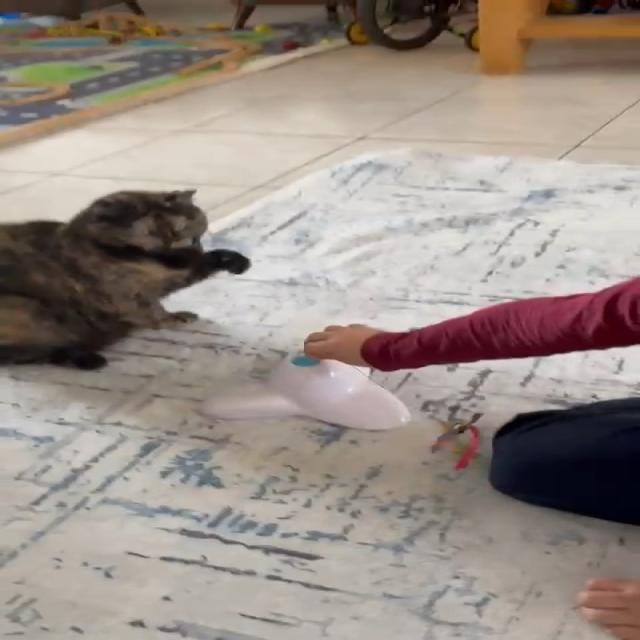authorized: (0, 187, 251, 371)
